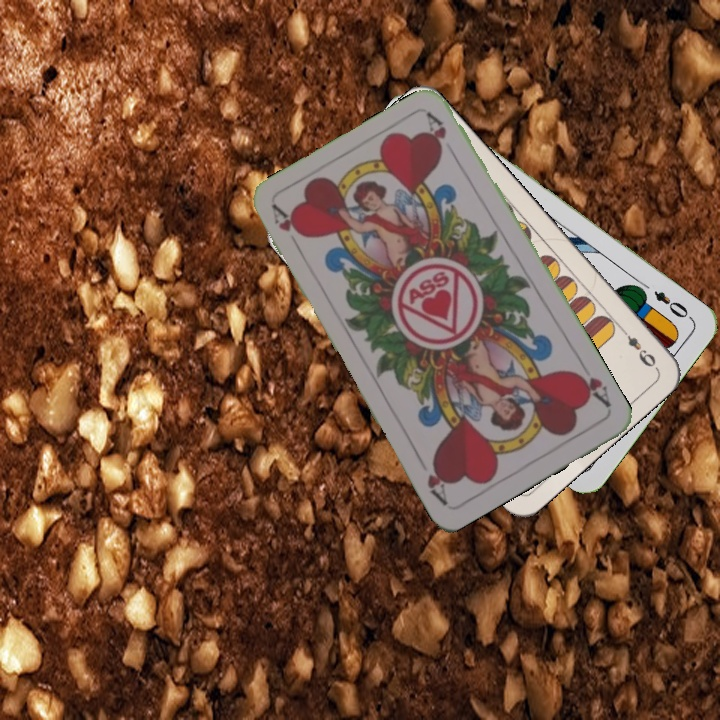E9: (616, 323, 659, 370)
EO: (649, 286, 695, 322)
HA: (568, 358, 614, 412), (267, 202, 306, 256)
